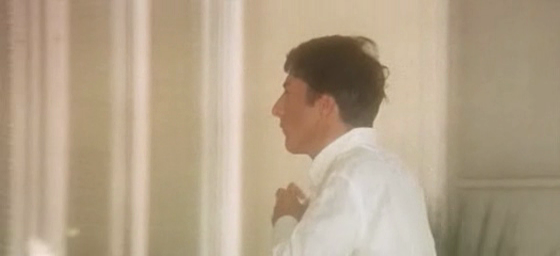face: (272, 76, 318, 154)
mcu: (1, 1, 560, 256)
person: (270, 35, 438, 256)
